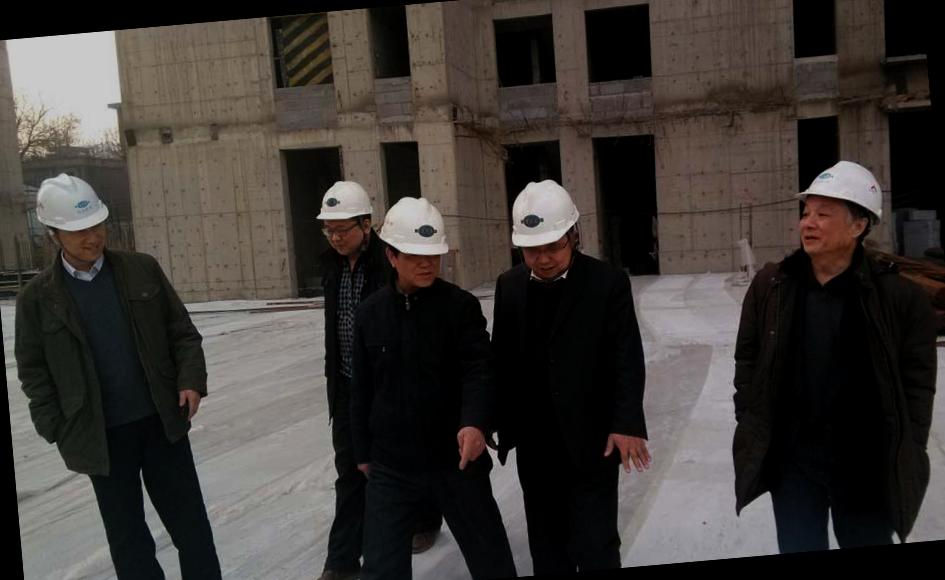helmet: (494, 173, 588, 259), (788, 156, 892, 230), (368, 188, 456, 268), (22, 167, 119, 236), (310, 177, 375, 232)
no_vest: (706, 249, 945, 519), (475, 253, 658, 470), (9, 250, 193, 458), (342, 276, 495, 488)
person: (693, 148, 945, 558), (0, 154, 228, 580), (470, 165, 670, 578), (327, 187, 514, 580), (299, 177, 409, 580)
